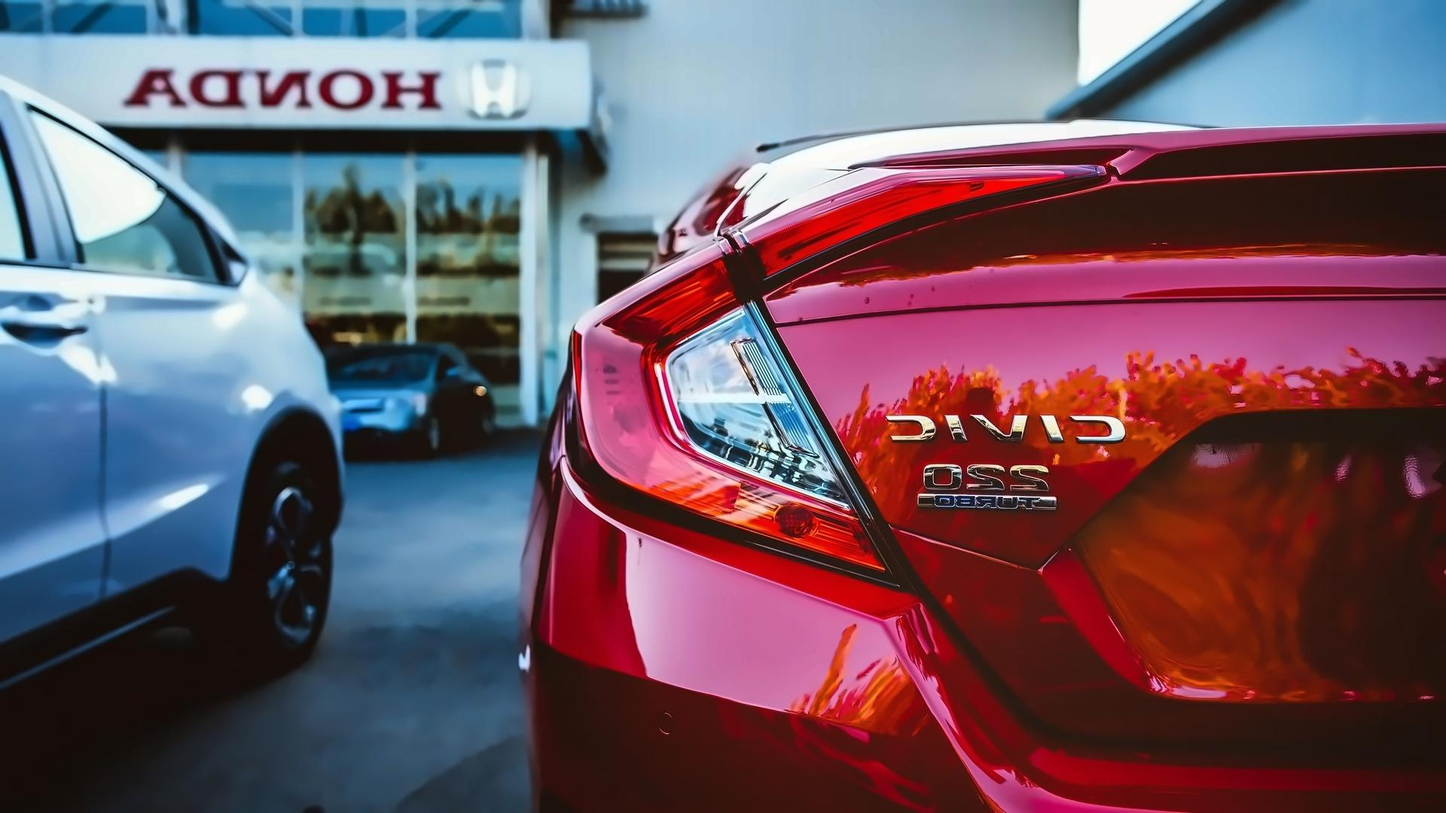Car boot: (752, 139, 1446, 754)
Fender - -R-L-: (206, 262, 357, 590)
Rear bumper: (516, 452, 1446, 813)
Rear light - -L-: (569, 162, 1112, 589)
